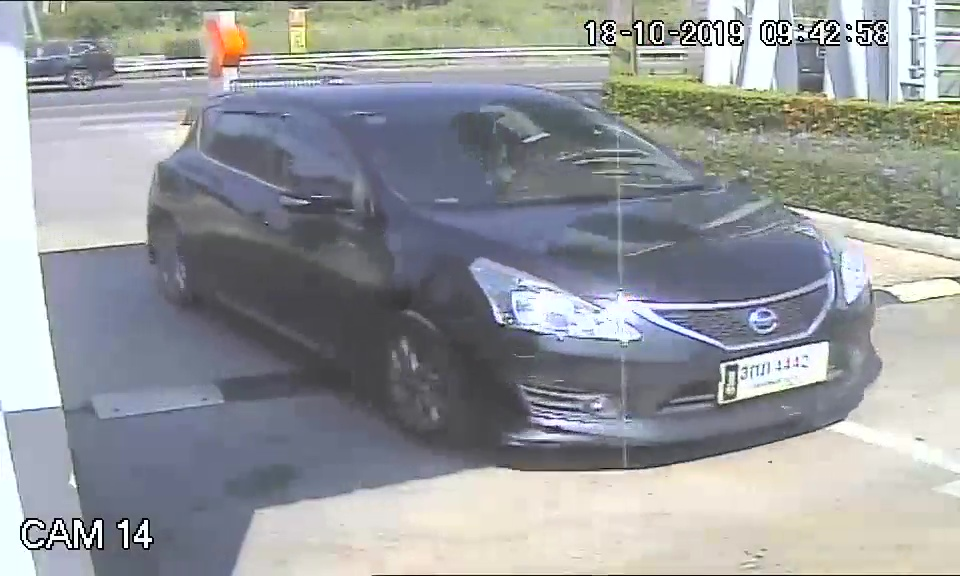sedan: (144, 77, 877, 461)
